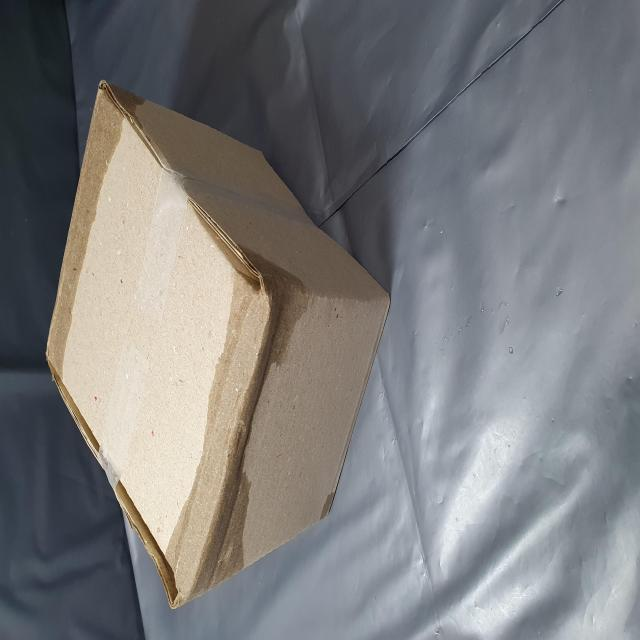wet: (16, 276, 221, 538), (149, 74, 315, 252)
